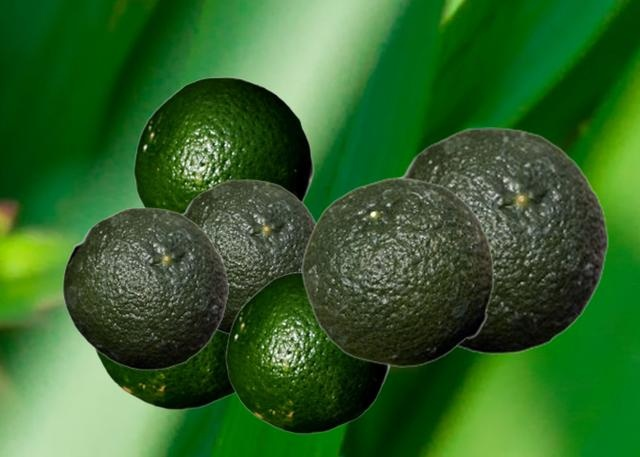calamansi: (395, 127, 608, 353), (301, 177, 493, 366), (225, 271, 391, 433), (62, 207, 228, 369), (133, 76, 313, 212), (182, 179, 315, 336), (91, 331, 234, 409)
